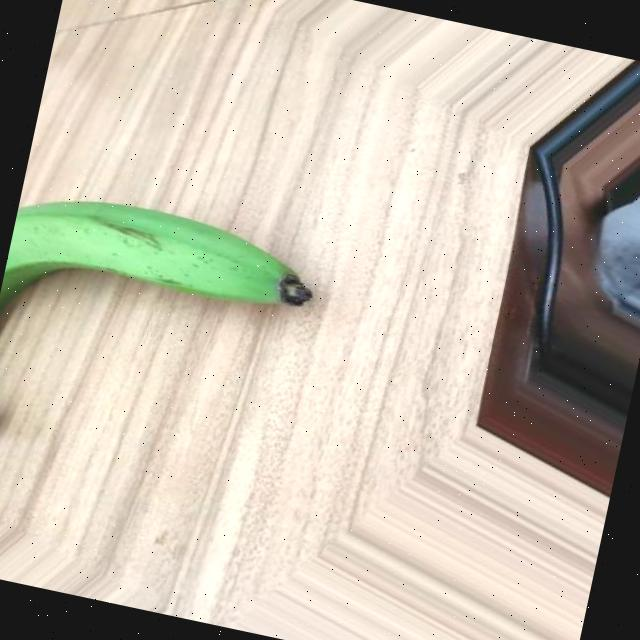Unripe: (0, 181, 319, 497)
